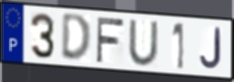1: (171, 22, 185, 71)
3: (29, 11, 56, 60)
D: (59, 12, 93, 64)
F: (95, 15, 126, 64)
J: (198, 26, 223, 71)
U: (127, 19, 160, 68)
